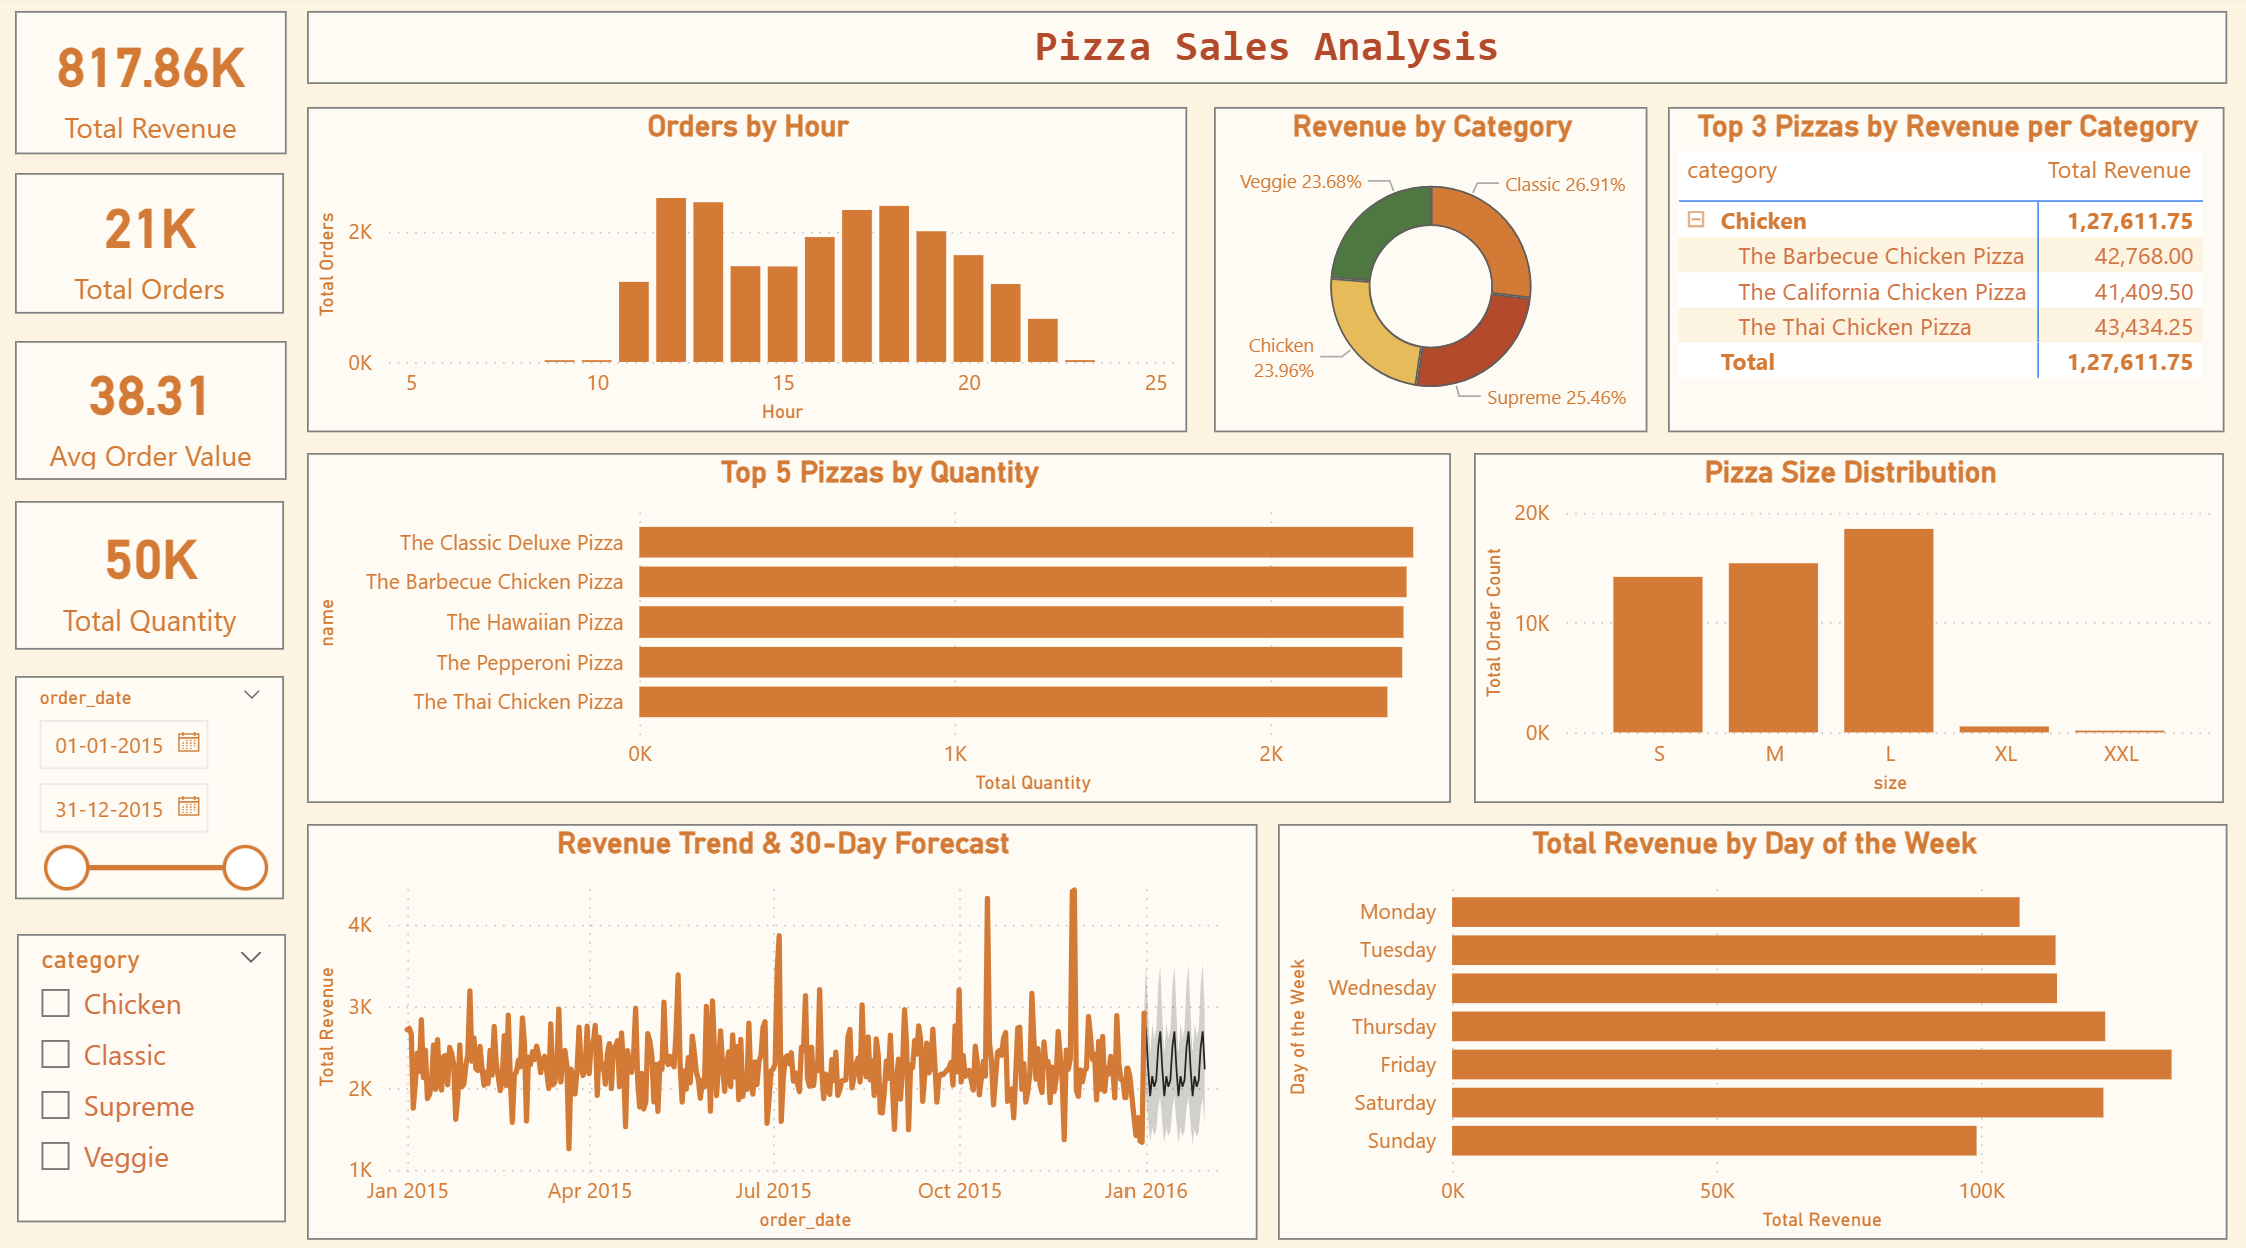

What the dashboard file says about the page in this screenshot:
{"tool":"powerbi","page":{"name":"Pizza Sales Analysis","canvas":[1280,720],"ordinal":4},"visuals":[{"type":"card","fields":{"Values":["order_details.Total Revenue"]},"box":[8.6,9.9,154.3,81.5],"z":0},{"type":"card","fields":{"Values":["order_details.Total Pizzas Sold"]},"box":[8.6,288.9,153.1,84],"z":1000},{"type":"card","fields":{"Values":["order_details.Avg Order Value"]},"box":[8.6,197.5,154.3,79],"z":2000},{"type":"card","fields":{"Values":["order_details.Total Orders"]},"box":[8.6,102.5,153.1,80.2],"z":3000},{"type":"donutChart","title":"Revenue by Category","fields":{"Category":["pizza_types.category"],"Y":["order_details.Total Revenue"]},"box":[690,65,246.7,185],"z":4000},{"type":"clusteredColumnChart","title":"Orders by Hour","fields":{"Category":["orders.Hour"],"Y":["order_details.Total Orders"]},"box":[175,65,500,185],"z":5000},{"type":"slicer","fields":{"Values":["orders.order_date"]},"box":[8.6,387.7,153.1,127.2],"z":6000},{"type":"textbox","box":[175,10,1091.7,41.7],"z":7000},{"type":"slicer","fields":{"Values":["pizza_types.category"]},"box":[9.9,534.6,153.1,164.2],"z":8000},{"type":"barChart","title":"Top 5 Pizzas by Quantity","fields":{"Category":["pizza_types.name"],"Y":["order_details.Total Quantity"]},"box":[175,261.7,650,198.3],"z":9000},{"type":"columnChart","title":"Pizza Size Distribution","fields":{"Category":["pizzas.size"],"Y":["order_details.Total Order Count"]},"box":[838.3,261.7,426.7,198.3],"z":10000},{"type":"pivotTable","title":"Top 3 Pizzas by Revenue per Category","fields":{"Rows":["pizza_types.category","pizza_types.name"],"Values":["order_details.Total Revenue"]},"box":[948.3,65,316.7,185],"z":11000},{"type":"lineChart","title":"Revenue Trend & 30-Day Forecast","fields":{"Category":["orders.order_date"],"Y":["order_details.Total Revenue"]},"box":[175,471.7,540,236.7],"z":12000},{"type":"barChart","fields":{"Category":["orders.Day of the Week"],"Y":["order_details.Total Revenue"]},"box":[726.7,471.7,540,236.7],"z":13000}]}

Visuals, with their boxes in screenshot pixels (x1, y1, x2, y2), scaled from the page's 1280x720 canvas onto the 2246x1248 screenshot:
card - order_details.Total Revenue: Rect(15, 17, 286, 158)
card - order_details.Total Pizzas Sold: Rect(15, 501, 284, 646)
card - order_details.Avg Order Value: Rect(15, 342, 286, 479)
card - order_details.Total Orders: Rect(15, 178, 284, 317)
"Revenue by Category" donutChart: Rect(1211, 113, 1644, 433)
"Orders by Hour" clusteredColumnChart: Rect(307, 113, 1184, 433)
slicer - orders.order_date: Rect(15, 672, 284, 892)
textbox: Rect(307, 17, 2223, 90)
slicer - pizza_types.category: Rect(17, 927, 286, 1211)
"Top 5 Pizzas by Quantity" barChart: Rect(307, 454, 1448, 797)
"Pizza Size Distribution" columnChart: Rect(1471, 454, 2220, 797)
"Top 3 Pizzas by Revenue per Category" pivotTable: Rect(1664, 113, 2220, 433)
"Revenue Trend & 30-Day Forecast" lineChart: Rect(307, 818, 1255, 1228)
barChart - orders.Day of the Week x order_details.Total Revenue: Rect(1275, 818, 2223, 1228)
